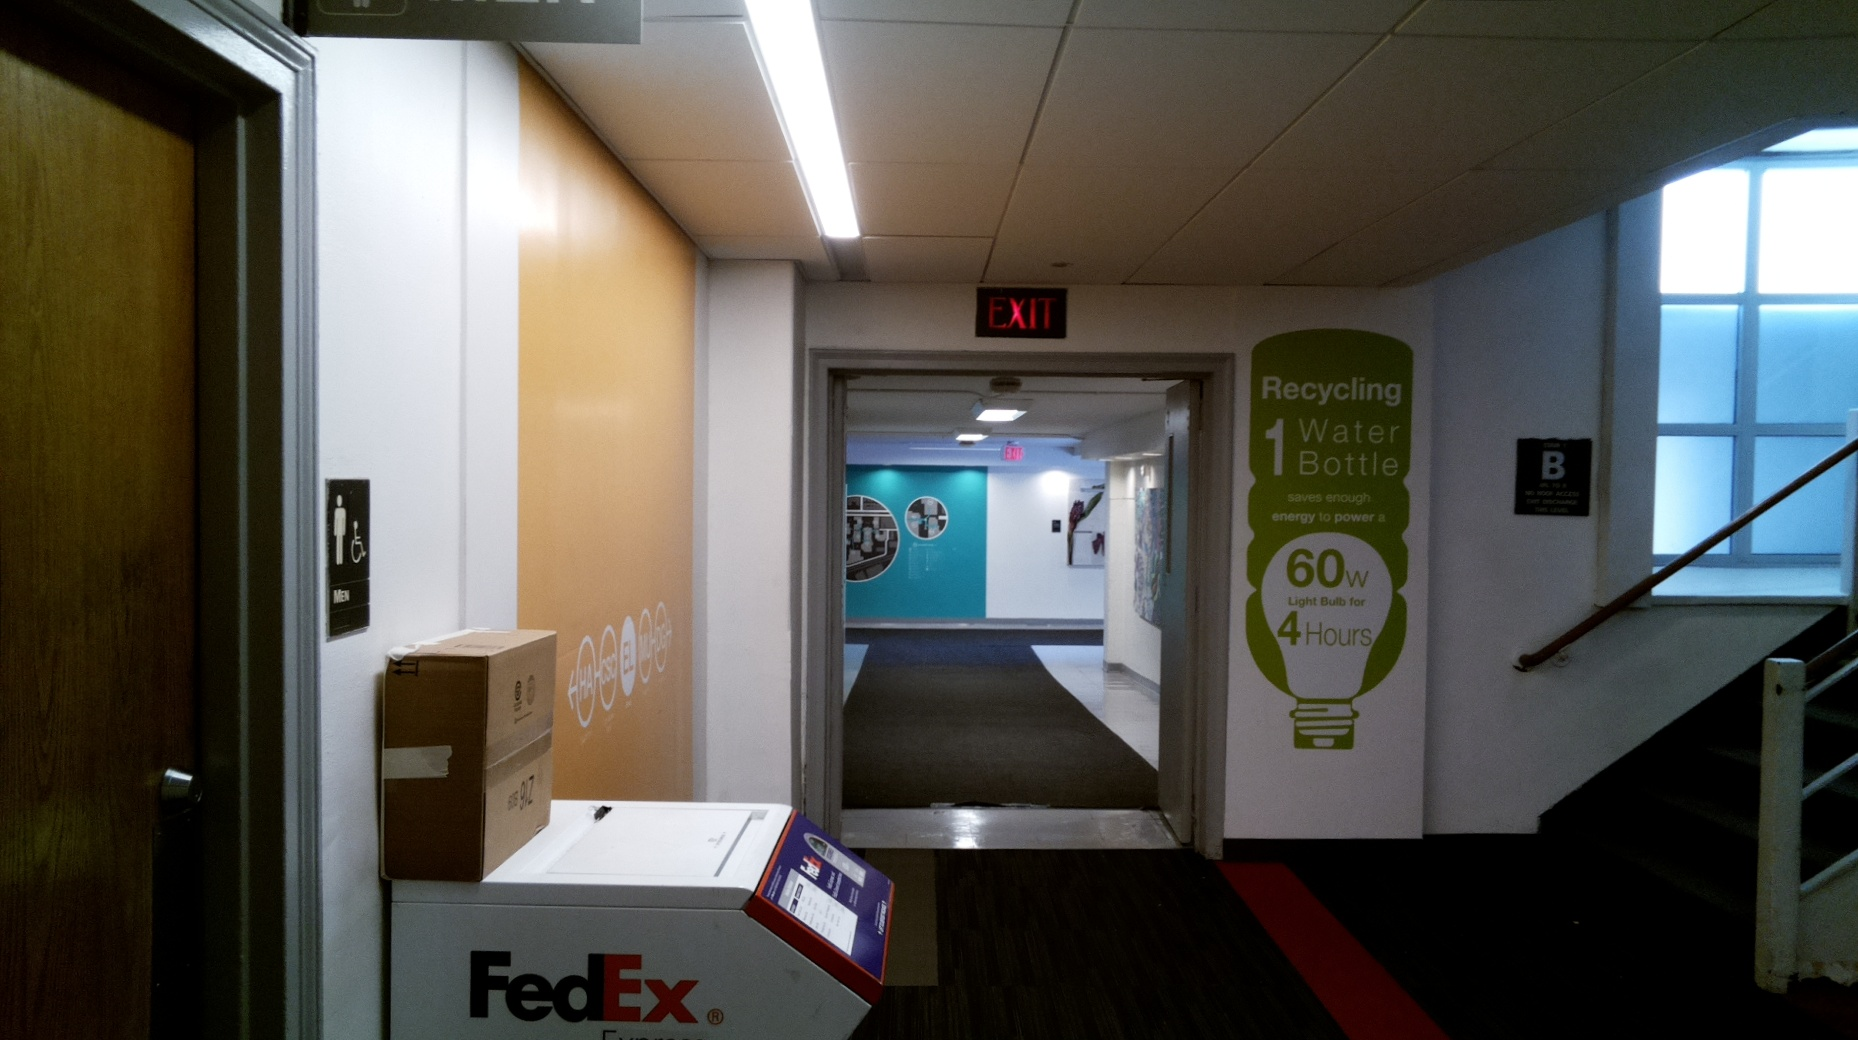bathroom sign: (320, 472, 374, 643)
exit sign: (972, 282, 1071, 341), (1000, 444, 1027, 463)
